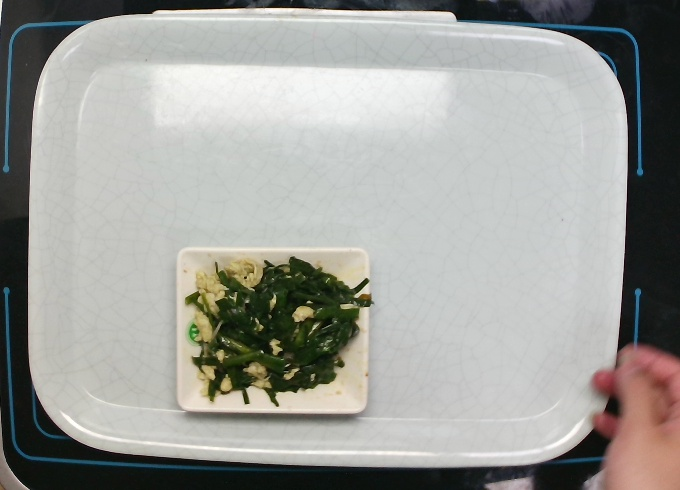WCQzf-Bai_Se_Si_Fang_Die: (168, 238, 380, 431)
